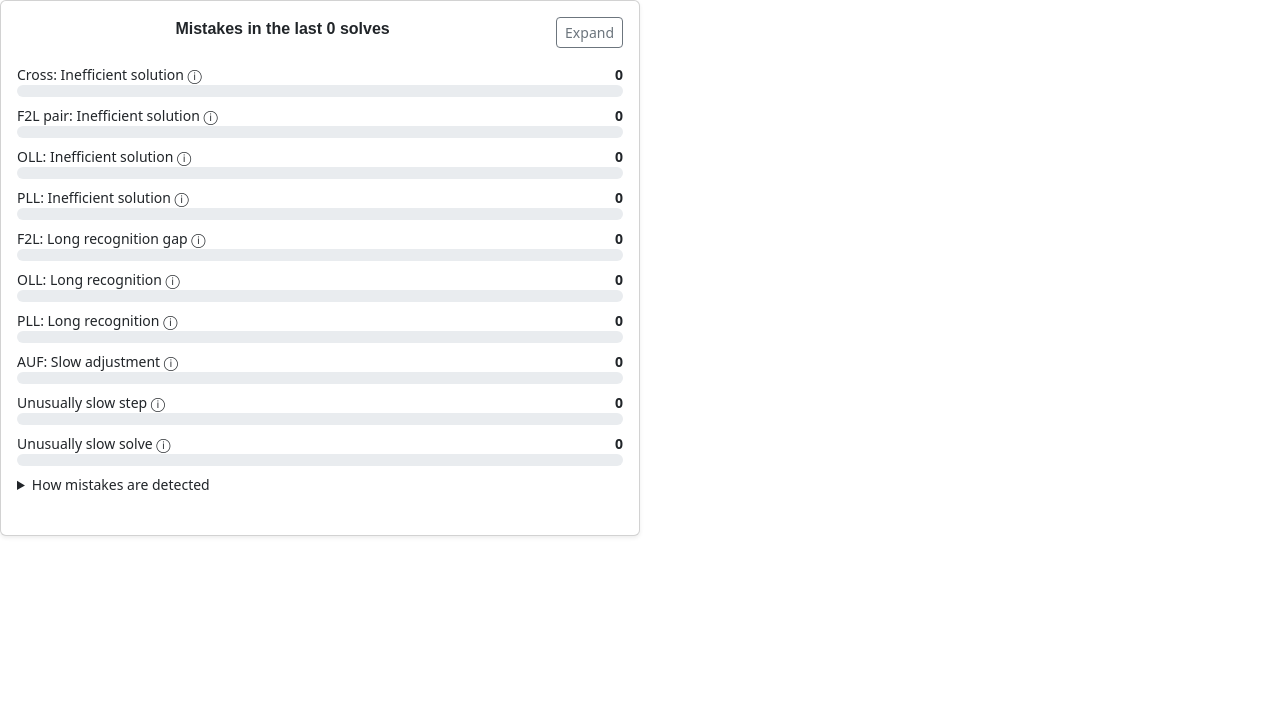
Scenario: recent mistake counts › starts compact and lets the user expand to full height and collapse again
Step 1. Click the button "Expand" → (590, 32), box [556, 17, 623, 48]
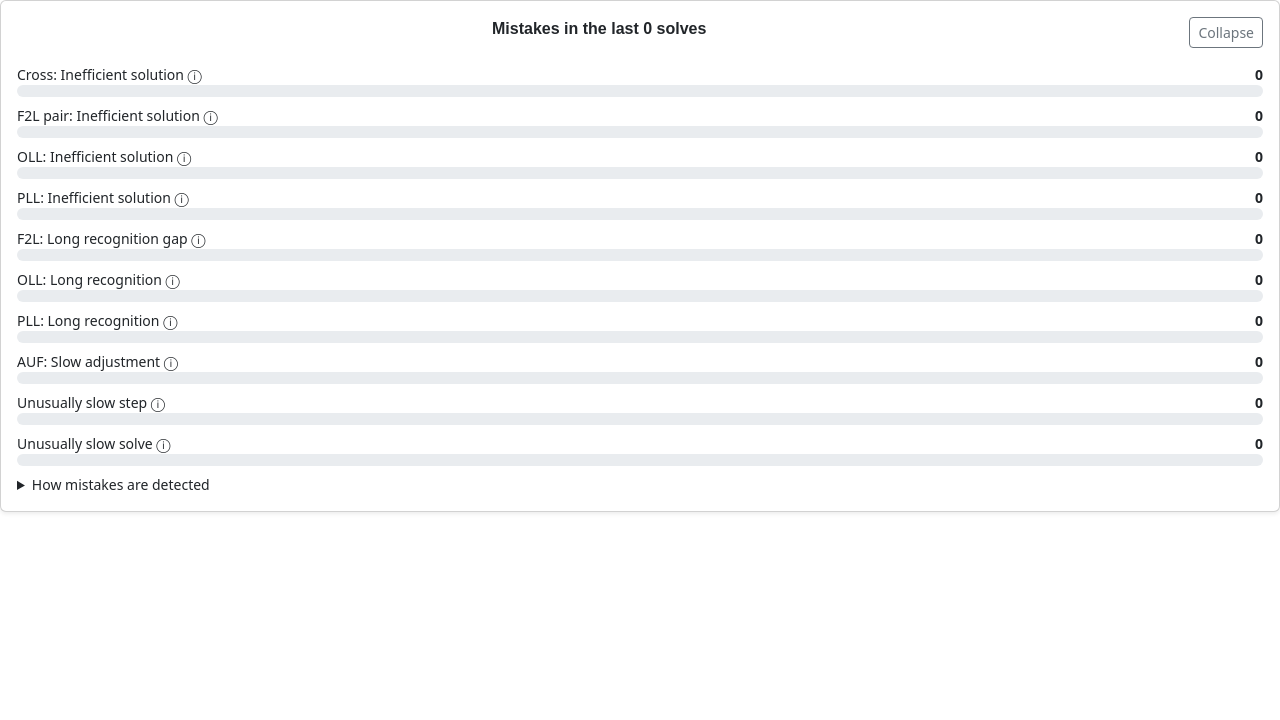
Check: the button with aria-label "About Cross: Inefficient solution" is shown, box [17, 64, 202, 85]
Check: the button "Collapse" is expanded
Step 2. Click the button "Collapse" → (1226, 32), box [1189, 17, 1263, 48]
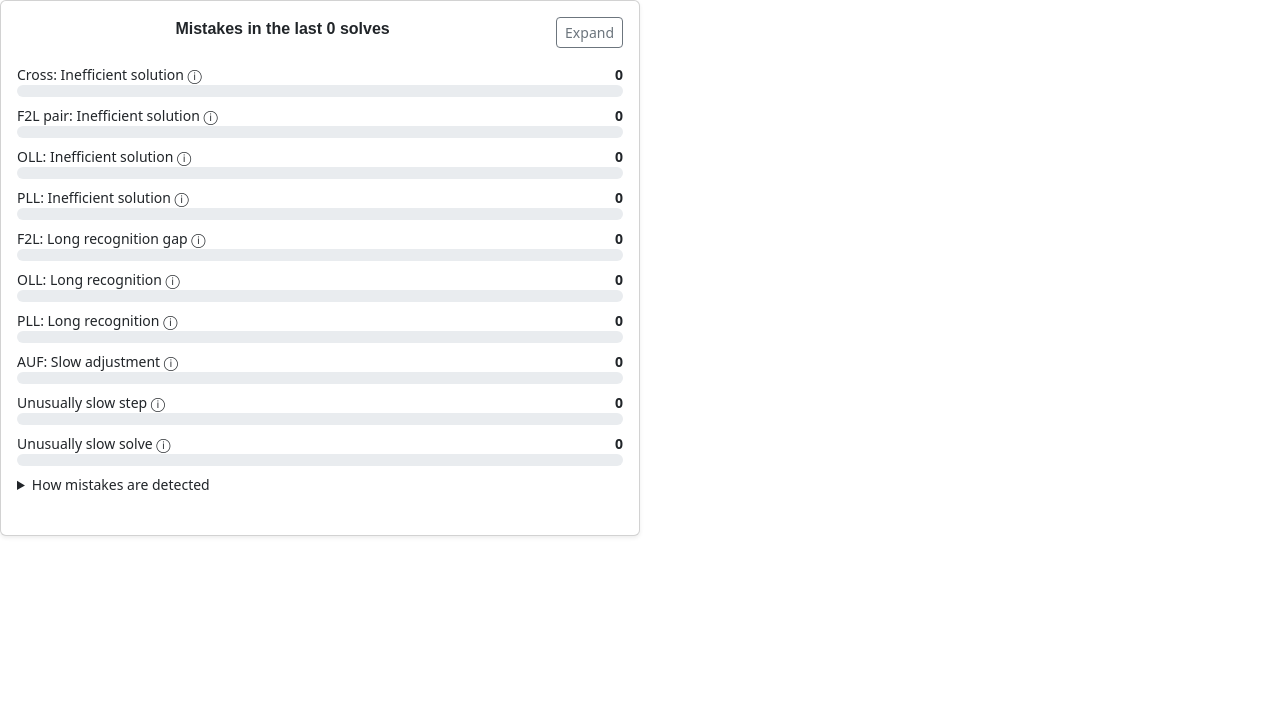
Check: the button "Expand" is collapsed, box [556, 17, 623, 48]
